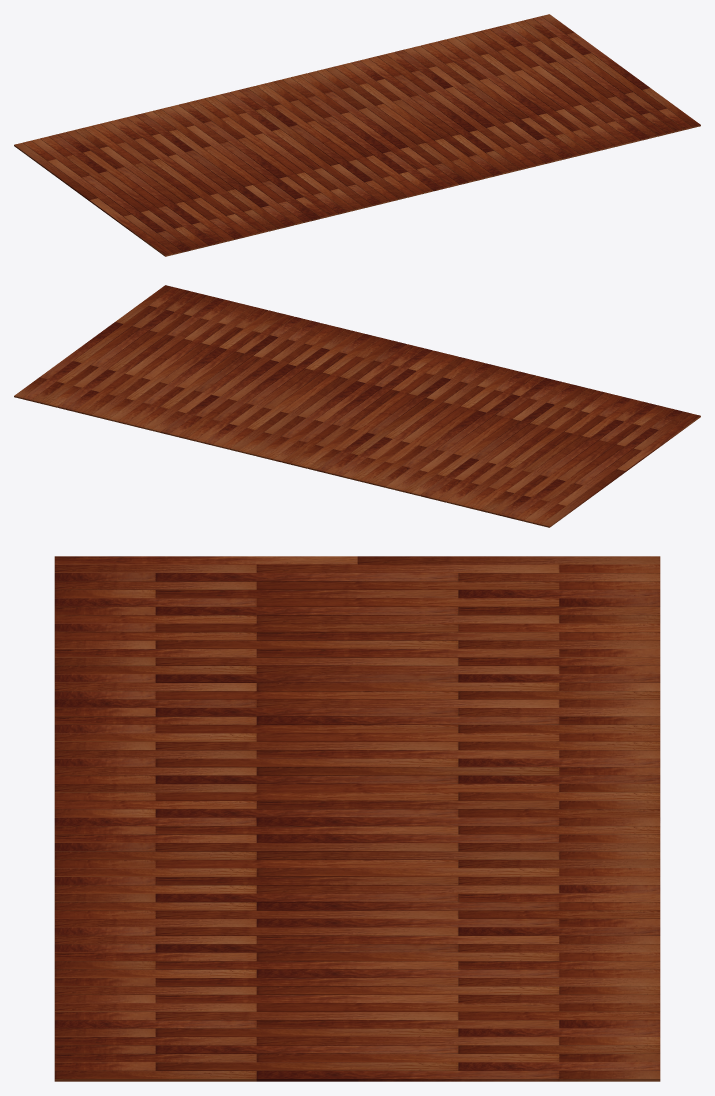
3 views of the same model, one above another, from view 1: azimuth 30°, elevation 25°; view 2: azimuth 150°, elevation 25°; view 3: azimuth 270°, elevation 25° (orthographic). The views are drawn at different scales.
Parts seen in each view (by area): view 1: planks; view 2: planks; view 3: planks.
Part boxes in pixels (<box>): planks: <box>14,14,700,256</box>; planks: <box>14,285,700,527</box>; planks: <box>54,556,660,1081</box>.
Size of the model in its own units: 9.3 by 0.0231 by 4.55.
130 materials, 130 textured.
